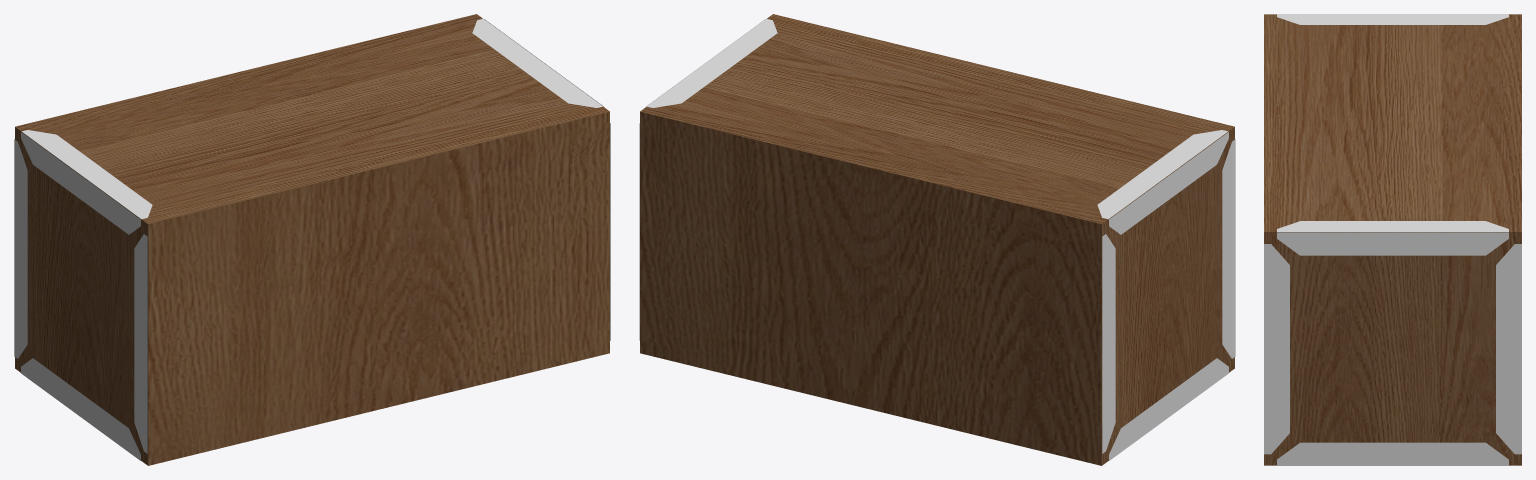
The model's file is WoodBox.fbx.
The picture shows the model from 3 angles, left to right: view 1: azimuth 30°, elevation 25°; view 2: azimuth 150°, elevation 25°; view 3: azimuth 270°, elevation 25°; orthographic projection. The views are drawn at different scales.
Visible parts, largest first — view 1: Cube.001, Plane.007, Plane.009, Plane.005, Plane.003, Plane.001, Plane; view 2: Cube.001, Plane.007, Plane.009, Plane.005, Plane.003, Plane.001, Plane; view 3: Cube.001, Plane.002, Plane.004, Plane.006, Plane.008, Plane.001, Plane.
Part boxes in pixels (x1,y1,x2,y2): Cube.001: (15, 14, 609, 465); Plane.007: (14, 139, 27, 358); Plane.009: (134, 234, 147, 453); Plane.005: (21, 358, 140, 460); Plane.003: (21, 132, 140, 234); Plane.001: (22, 130, 152, 219); Plane: (472, 18, 602, 107); Cube.001: (640, 14, 1234, 465); Plane.007: (1102, 234, 1115, 453); Plane.009: (1222, 139, 1235, 358); Plane.005: (1109, 358, 1228, 460); Plane.003: (1109, 132, 1228, 234); Plane.001: (1097, 130, 1227, 219); Plane: (647, 18, 777, 107); Cube.001: (1264, 14, 1521, 465); Plane.002: (1277, 232, 1508, 255); Plane.004: (1277, 442, 1508, 465); Plane.006: (1496, 244, 1521, 454); Plane.008: (1264, 244, 1289, 454); Plane.001: (1277, 14, 1508, 24); Plane: (1277, 221, 1508, 231).
Bounding box in the file's own units: 201 × 100 × 100.
Materials: 2 (1 with a texture image).
